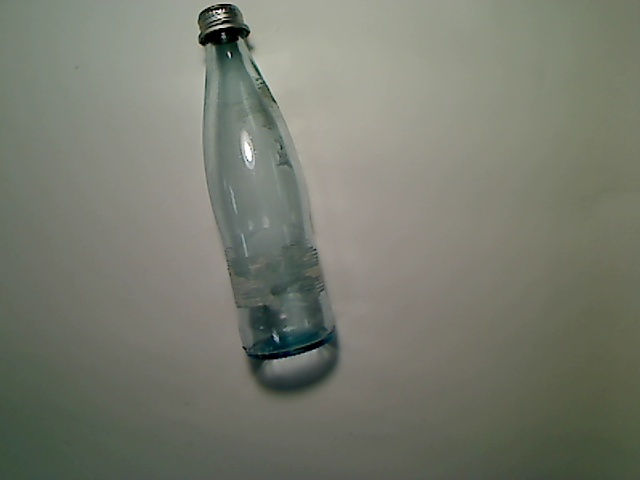bottle: (197, 4, 338, 360)
